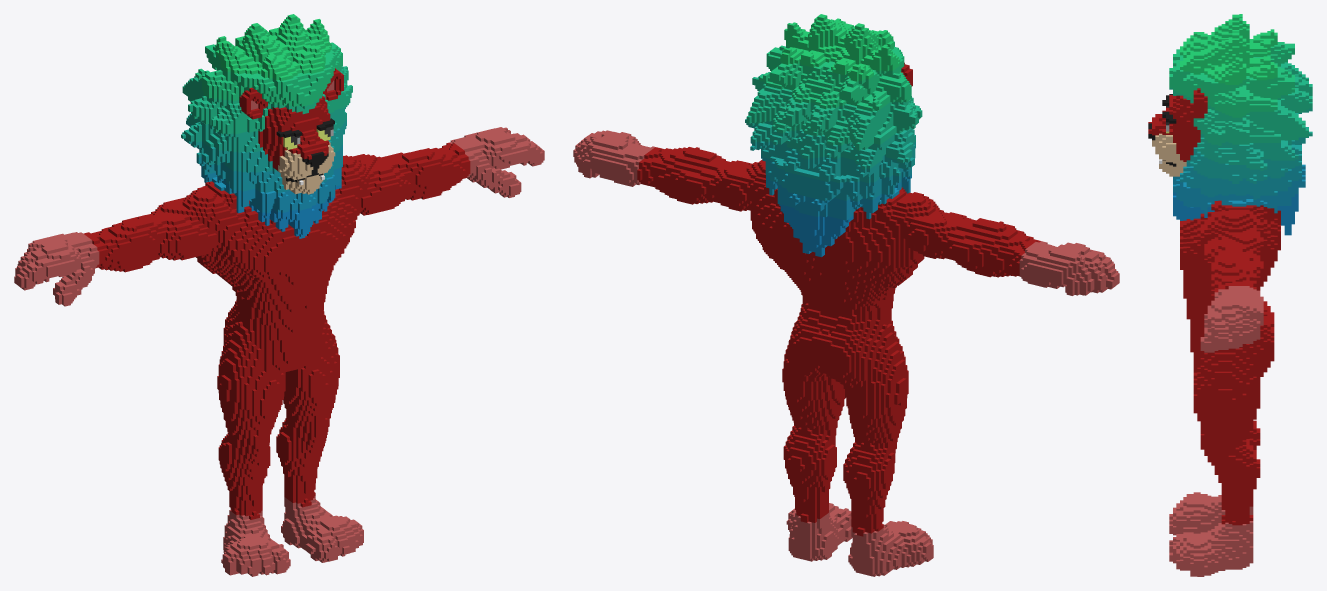
The model's file is 974-DYAyv_XS.glb.
The picture shows the model from 3 angles, left to right: view 1: azimuth 30°, elevation 25°; view 2: azimuth 150°, elevation 25°; view 3: azimuth 270°, elevation 25°; orthographic projection. The views are drawn at different scales.
Visible parts, largest first — view 1: standard; view 2: standard; view 3: standard.
Boxes of the visible parts, x1=… form: standard: x1=14, y1=14, x2=544, y2=576; standard: x1=573, y1=14, x2=1119, y2=576; standard: x1=1148, y1=14, x2=1312, y2=576.
Size of the model in its own units: 17.2 by 16.5 by 4.7.
Materials: 4 (4 with a texture image).
